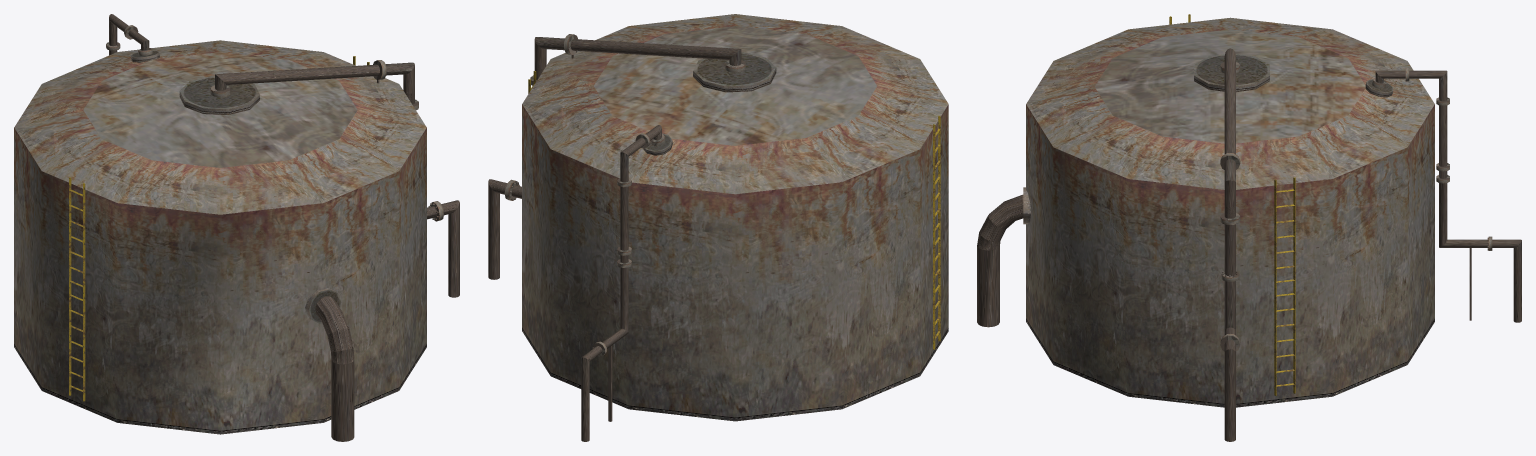
The model's file is O_TankC.glb.
3 renders of one model, left to right at view 1: azimuth 30°, elevation 25°; view 2: azimuth 150°, elevation 25°; view 3: azimuth 270°, elevation 25°, orthographic. The views are drawn at different scales.
Visible parts, largest first — view 1: _O_TankC; view 2: _O_TankC; view 3: _O_TankC.
Boxes of the visible parts, x1,y1,x2,y2 form: _O_TankC: (14,14,459,441); _O_TankC: (488,14,948,441); _O_TankC: (977,14,1521,441).
Bounding box in the file's own units: 18.67 × 11.92 × 21.32.
Materials: 6 (6 with a texture image).
